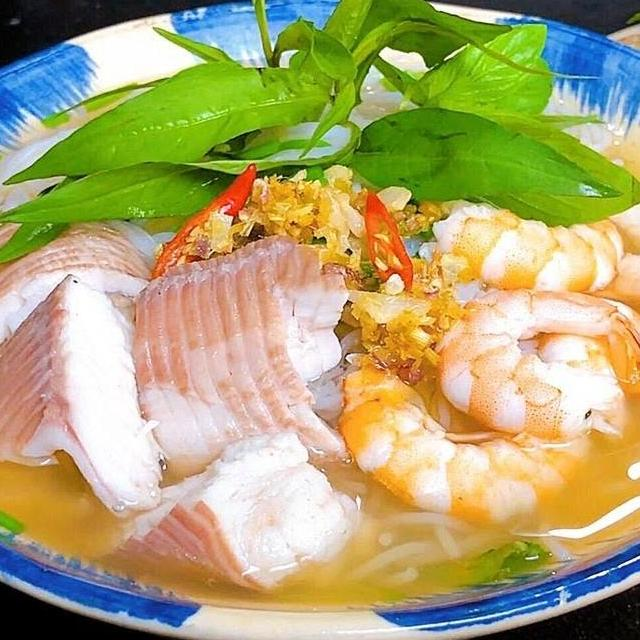bun: (0, 117, 187, 268), (337, 508, 506, 596)
bun ca: (0, 25, 640, 640)
ca: (121, 228, 354, 481), (54, 419, 373, 601), (0, 263, 169, 530), (0, 211, 161, 396)
rau ram: (0, 0, 626, 278)
tom: (331, 349, 600, 532), (431, 279, 640, 449), (418, 179, 636, 296), (527, 291, 640, 459), (589, 243, 640, 401)
